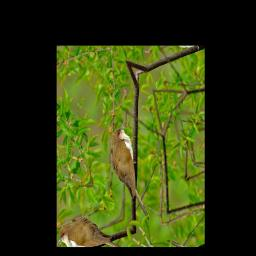Cuckoo: (96, 119, 175, 222)
